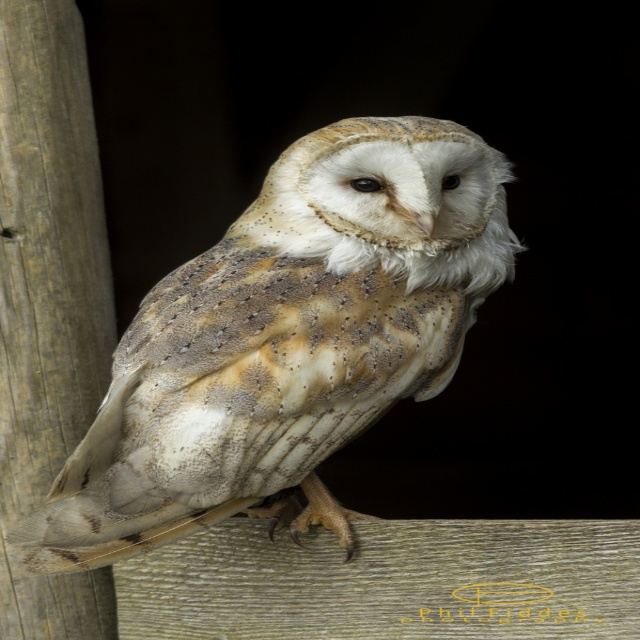Owl: (11, 114, 523, 577)
